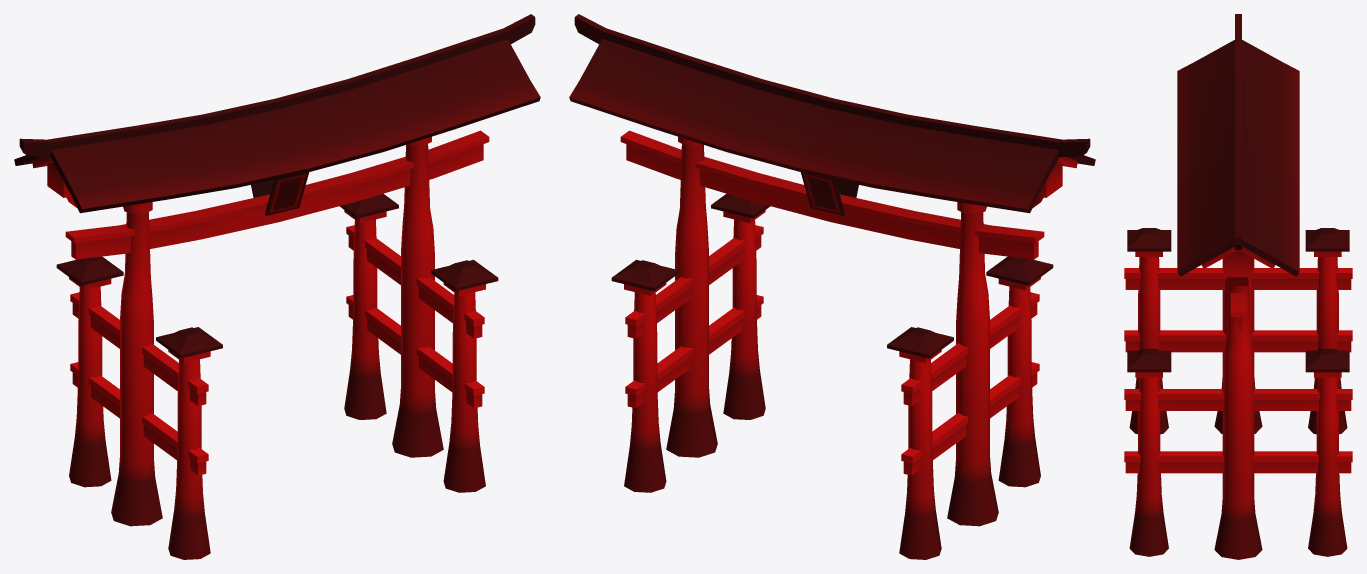
The model's file is buildings-historical-toriigate_v1.fbx.
3 views of the same model, side by side, from view 1: azimuth 30°, elevation 25°; view 2: azimuth 150°, elevation 25°; view 3: azimuth 270°, elevation 25° (orthographic). The views are drawn at different scales.
Visible parts, largest first — view 1: ToriiGate.001; view 2: ToriiGate.001; view 3: ToriiGate.001.
Part boxes in pixels (x1,y1,x2,y2): ToriiGate.001: (14,14,540,559); ToriiGate.001: (569,14,1095,559); ToriiGate.001: (1124,14,1352,559).
Bounding box in the file's own units: 28.87 × 21.74 × 12.42.
